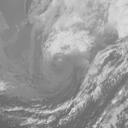cyclone: (49, 26, 107, 90)
